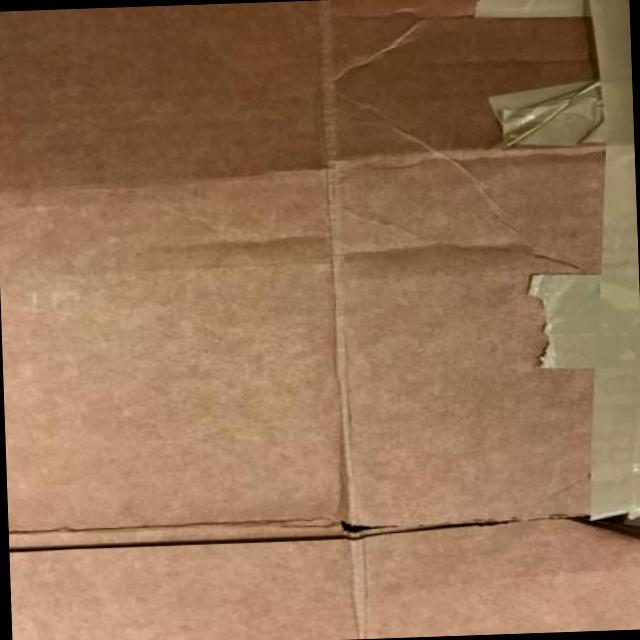cardboard: (0, 0, 639, 639), (0, 0, 601, 531), (9, 519, 639, 639), (10, 540, 357, 639)
